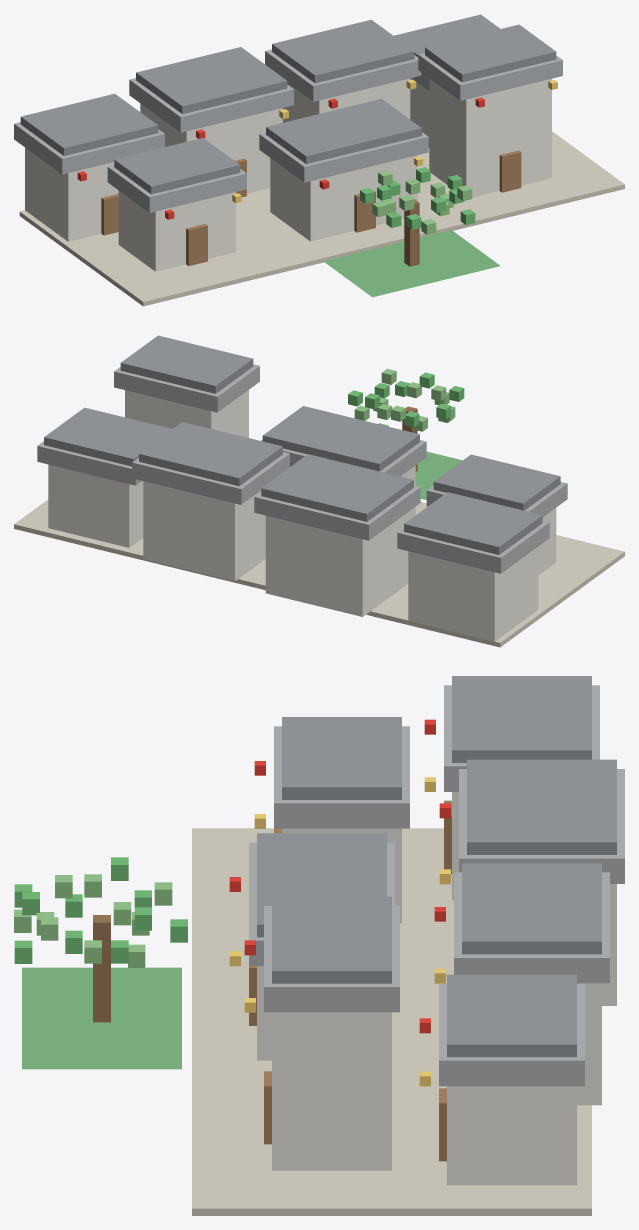
File: voxel-jinan-street-block.gltf
3 views of the same model, one above another, from view 1: azimuth 30°, elevation 25°; view 2: azimuth 150°, elevation 25°; view 3: azimuth 270°, elevation 25° (orthographic). The views are drawn at different scales.
Bounding box in the file's own units: 9.06 × 2.32 × 6.11.
